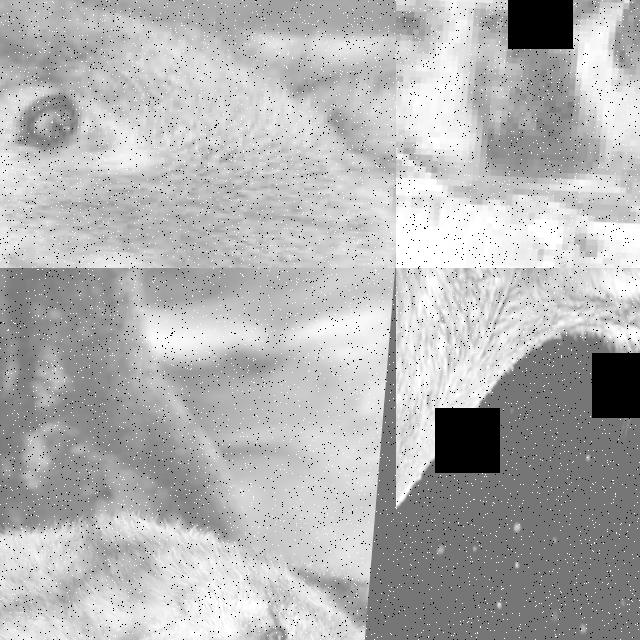dog: (396, 0, 640, 259)
wolf: (83, 268, 396, 619), (0, 0, 396, 268), (396, 268, 640, 617), (0, 489, 380, 640)
